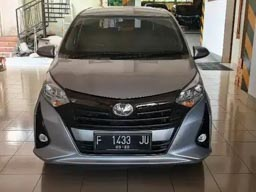plat: (93, 133, 151, 145)
